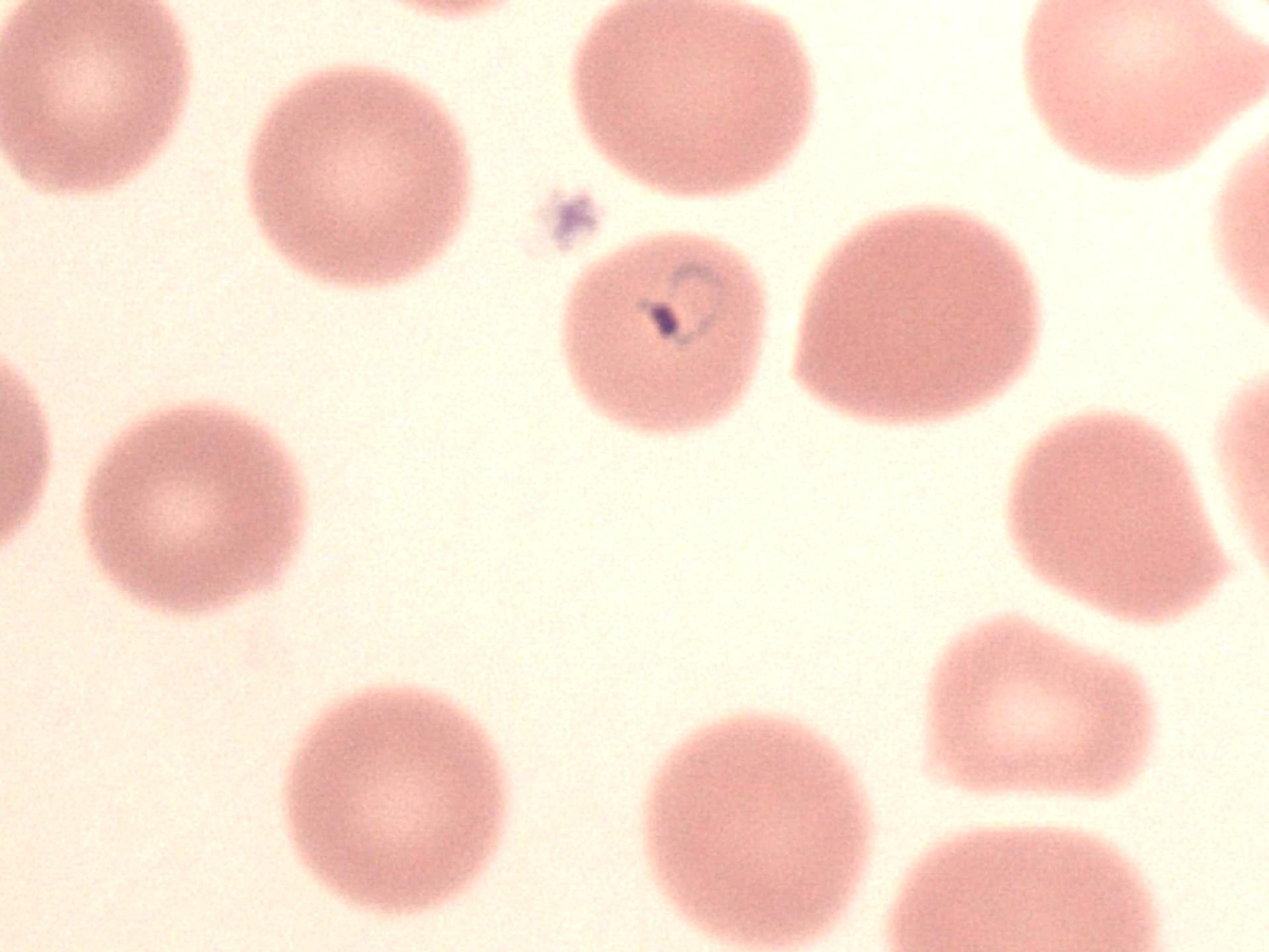Infected: (562, 228, 762, 433)
Uninfected: (641, 705, 870, 952), (789, 208, 1033, 428), (282, 681, 501, 918), (245, 65, 471, 289), (1005, 408, 1226, 630), (575, 3, 818, 203), (84, 402, 301, 624), (921, 611, 1153, 809), (1020, 0, 1269, 179), (0, 0, 192, 201)
